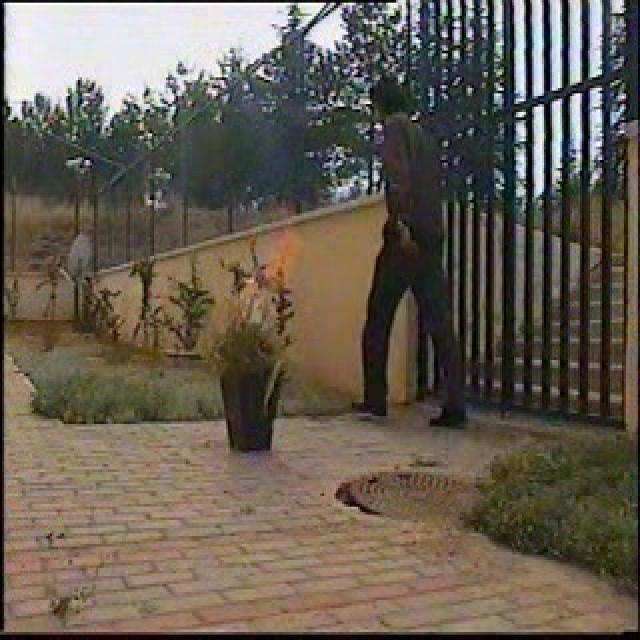Fire: (225, 198, 308, 320)
Smoke: (233, 94, 307, 234)
